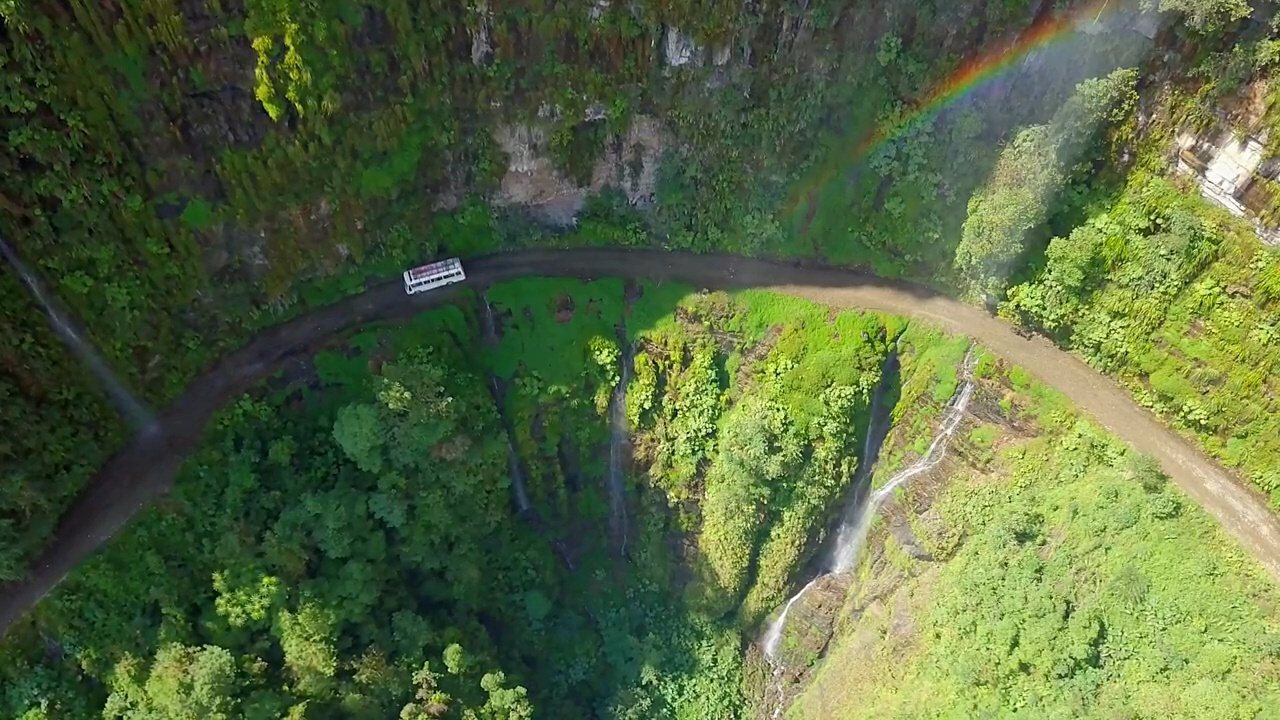otobus: (395, 256, 466, 297)
